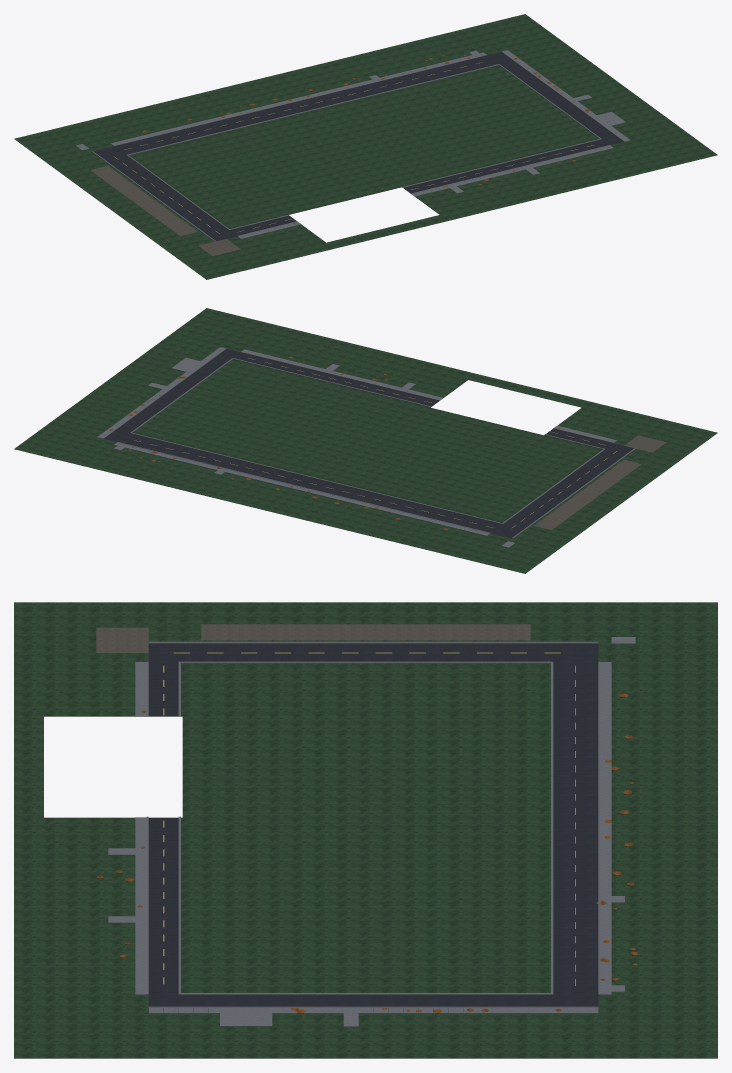
The model's file is terrain.glb.
3 views of the same model, one above another, from view 1: azimuth 30°, elevation 25°; view 2: azimuth 150°, elevation 25°; view 3: azimuth 270°, elevation 25° (orthographic). The views are drawn at different scales.
Visible parts, largest first — view 1: geo_terrain; view 2: geo_terrain; view 3: geo_terrain.
Part boxes in pixels (x1,y1,x2,y2): geo_terrain: (14, 14, 717, 279); geo_terrain: (14, 308, 717, 573); geo_terrain: (14, 602, 717, 1058).
Bounding box in the file's own units: 144 × 0.17 × 94.
Materials: 7 (6 with a texture image).
